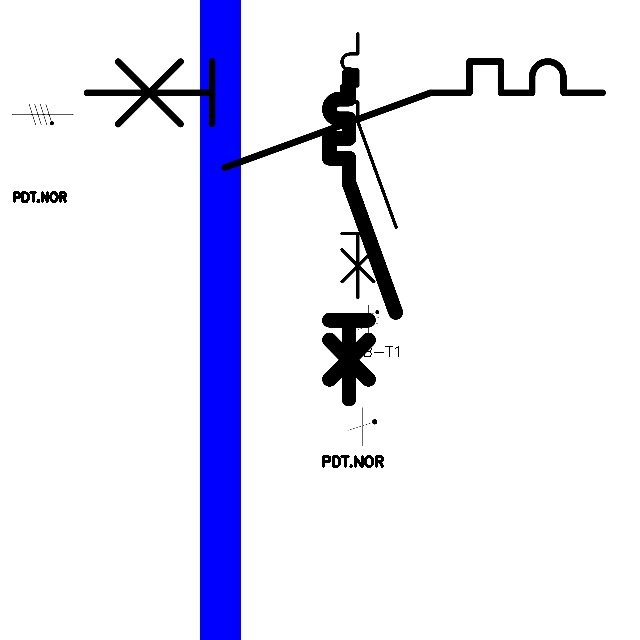interruptor_termomagnetico: (73, 48, 615, 181), (321, 66, 404, 407), (335, 27, 403, 305)
